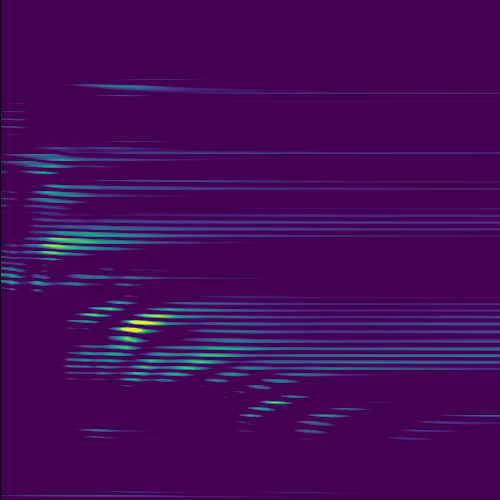semblance: (110, 298, 181, 349), (38, 225, 97, 263)
